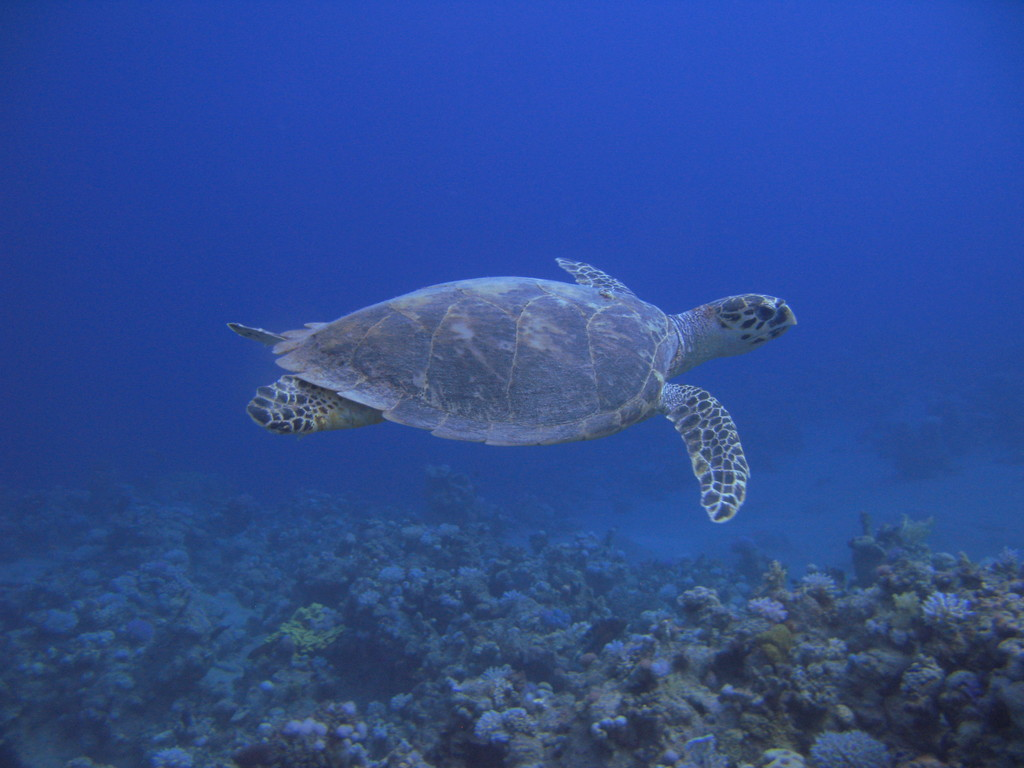Sea turtles: (214, 257, 794, 528)
